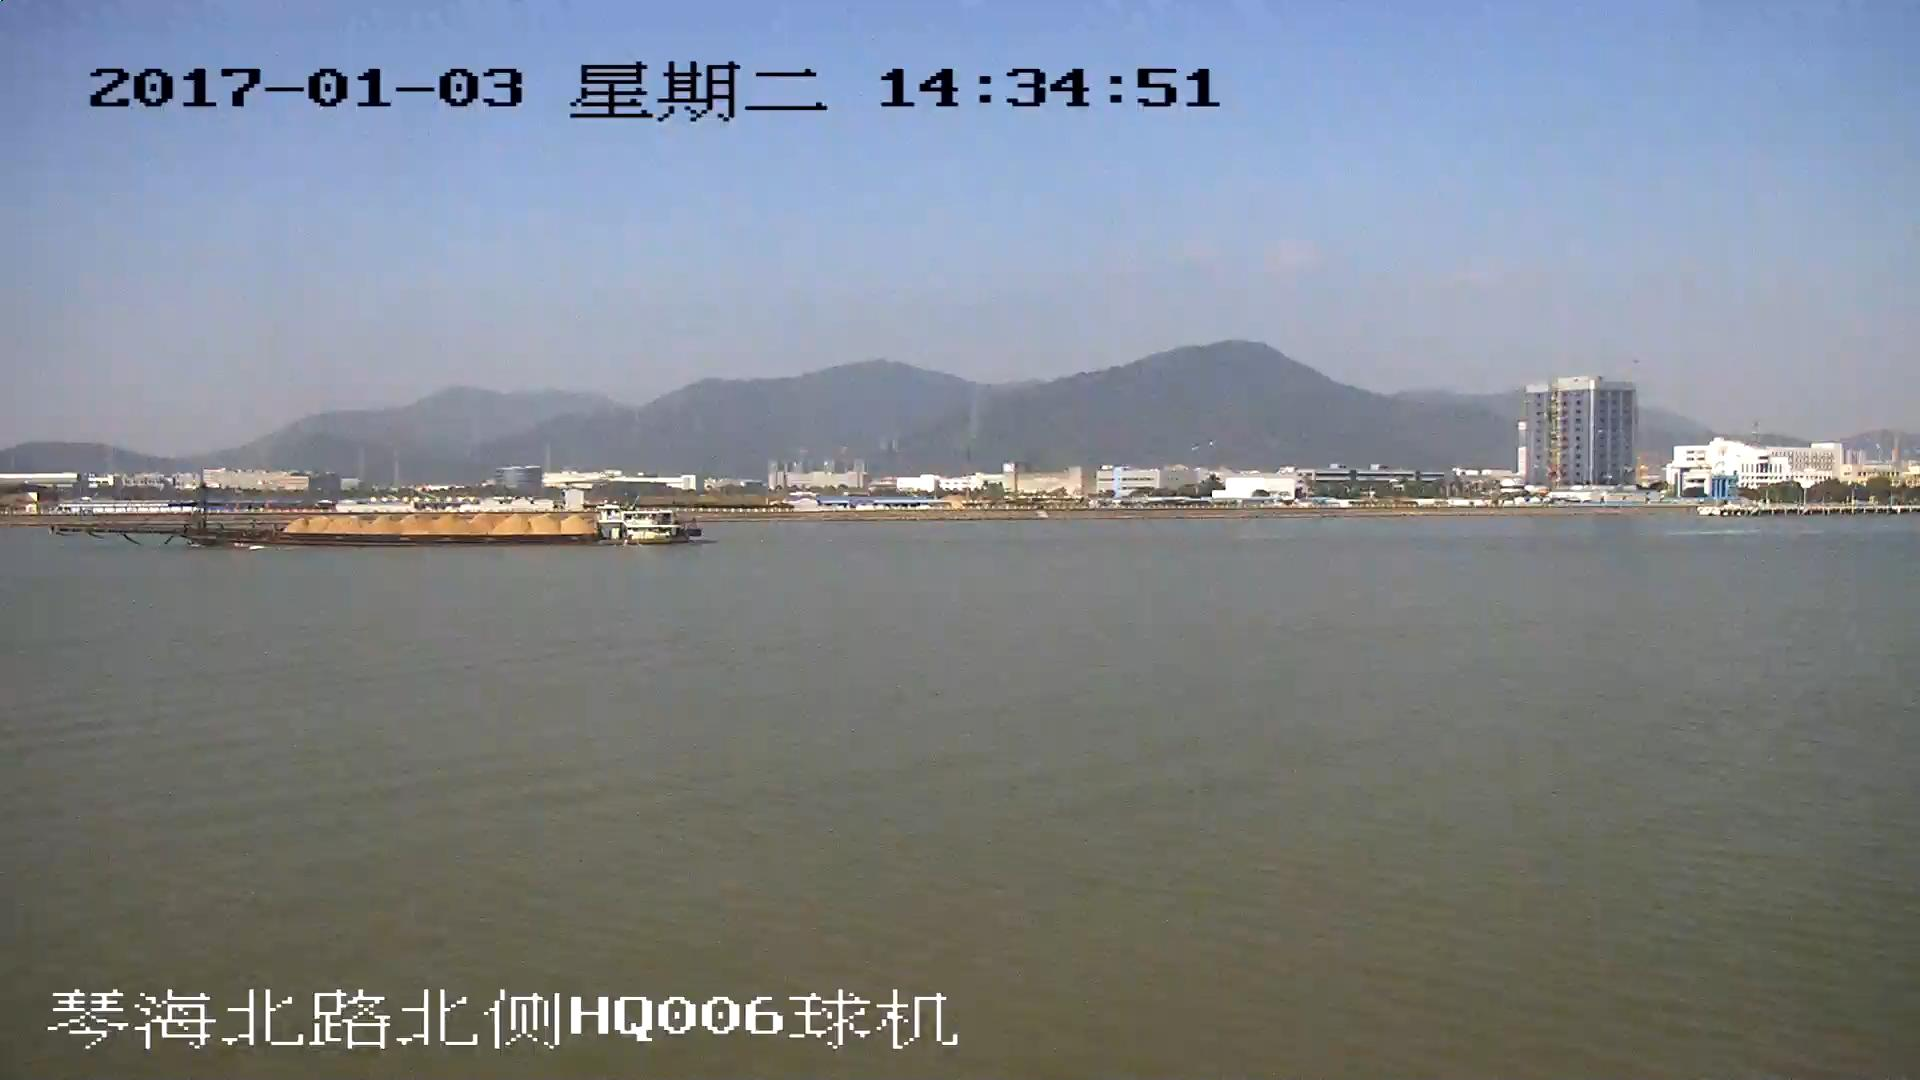ore carrier: (49, 488, 702, 549)
